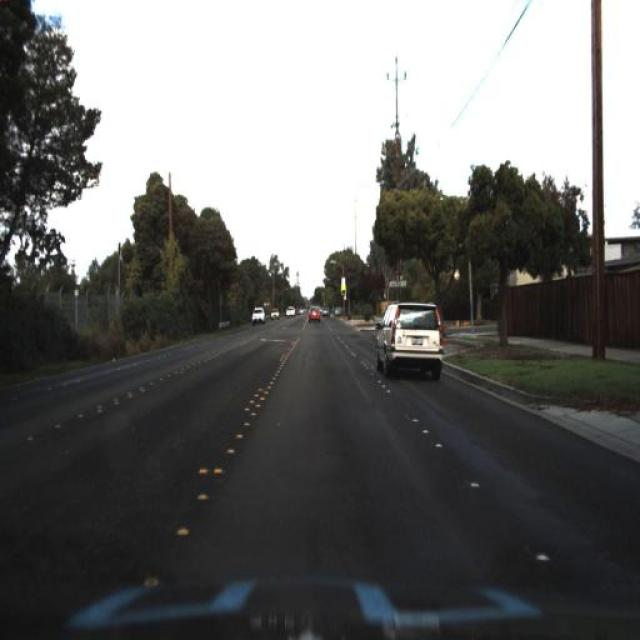car: (375, 296, 445, 384), (307, 302, 324, 323), (252, 307, 266, 324)
